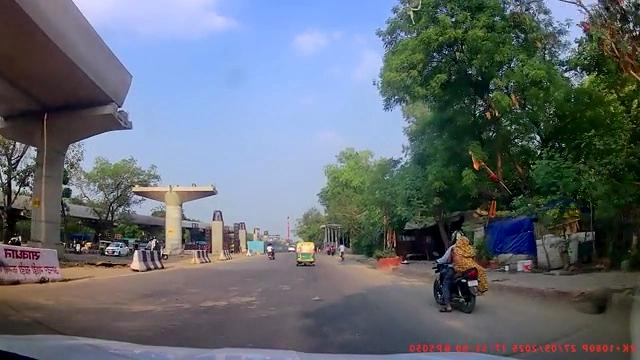passenger_without_helmet: (431, 230, 487, 314)
